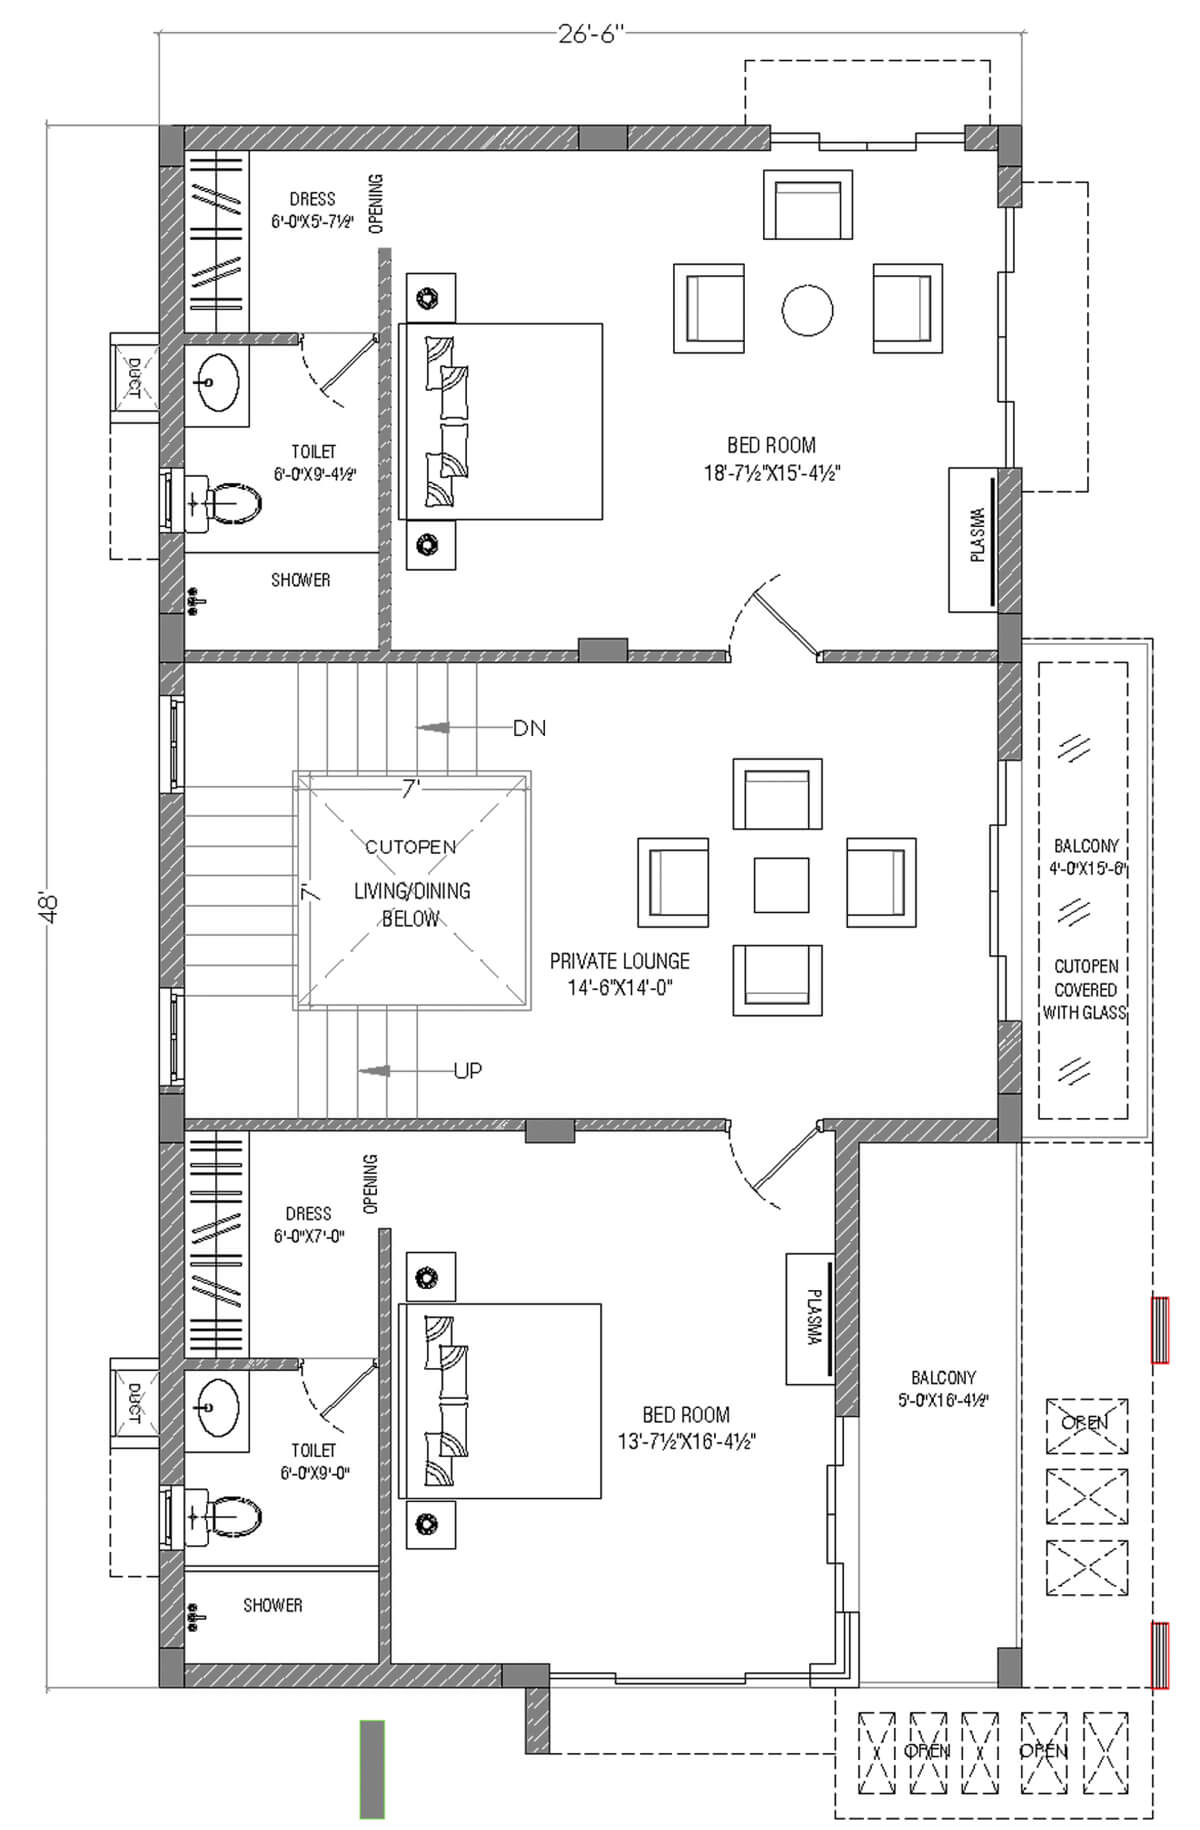wall: (157, 126, 773, 151), (157, 1114, 729, 1139), (159, 645, 737, 669), (162, 1659, 504, 1695), (157, 126, 187, 477), (157, 1087, 183, 1487), (370, 242, 395, 656), (832, 1120, 865, 1414), (995, 467, 1026, 756), (154, 1542, 193, 1687), (157, 526, 187, 692), (812, 643, 992, 667), (520, 1663, 558, 1759), (834, 1123, 1007, 1145), (183, 327, 301, 353), (159, 1356, 307, 1376), (998, 1017, 1018, 1137), (998, 116, 1023, 203), (968, 123, 1023, 149)
